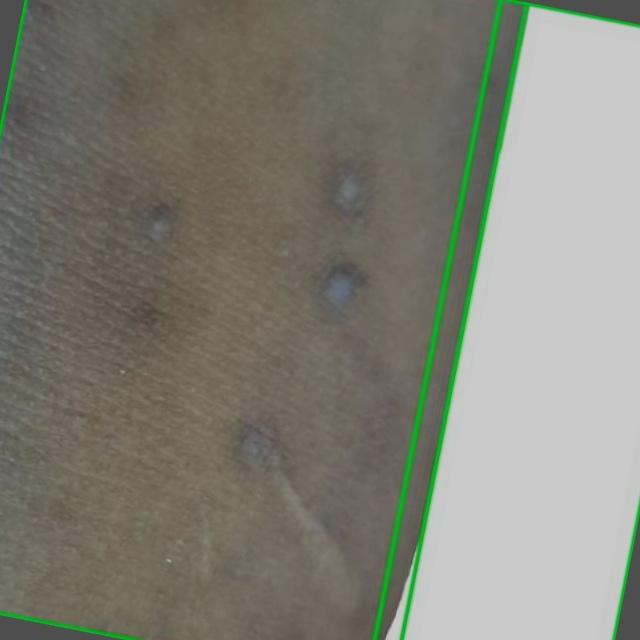Scabies: (0, 0, 526, 639), (375, 0, 639, 639)
